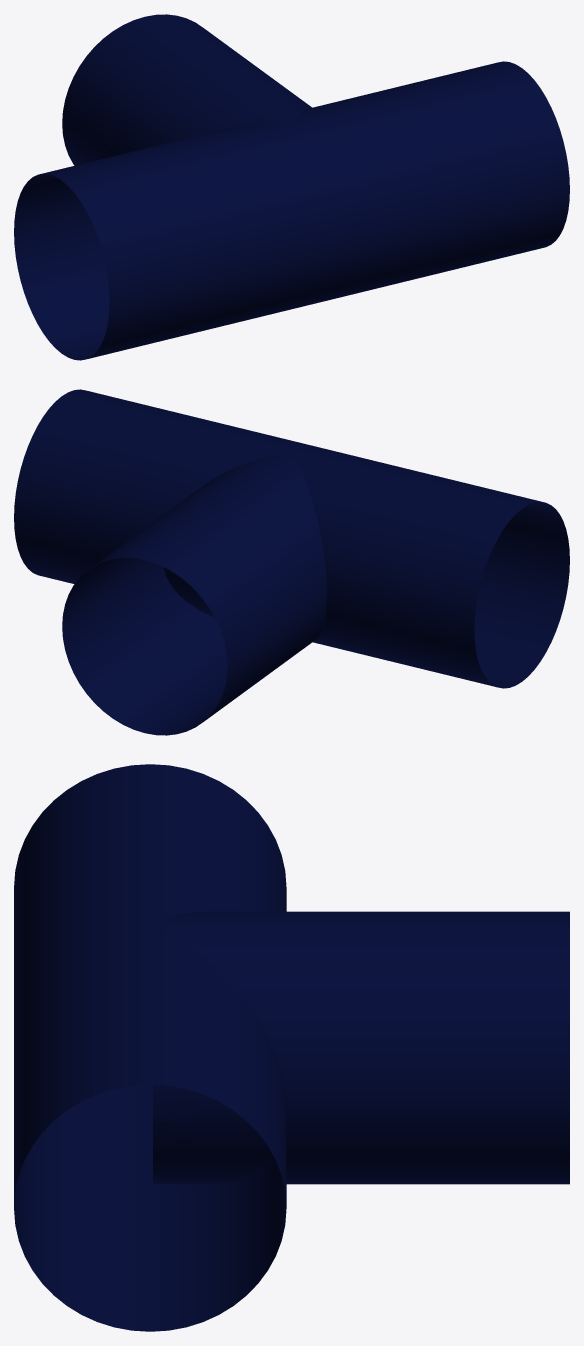
Rendered from pipeTWtexture.fbx.
The picture shows the model from 3 angles, top to bottom: view 1: azimuth 30°, elevation 25°; view 2: azimuth 150°, elevation 25°; view 3: azimuth 270°, elevation 25°; orthographic projection. The views are drawn at different scales.
Parts seen in each view (by area): view 1: NurbsPath.000; view 2: NurbsPath.000; view 3: NurbsPath.000.
Part boxes in pixels (<box>): NurbsPath.000: <box>14,14,569,360</box>; NurbsPath.000: <box>14,389,569,735</box>; NurbsPath.000: <box>14,764,569,1331</box>.
Bounding box in the file's own units: 34.79 × 12.5 × 25.5.
